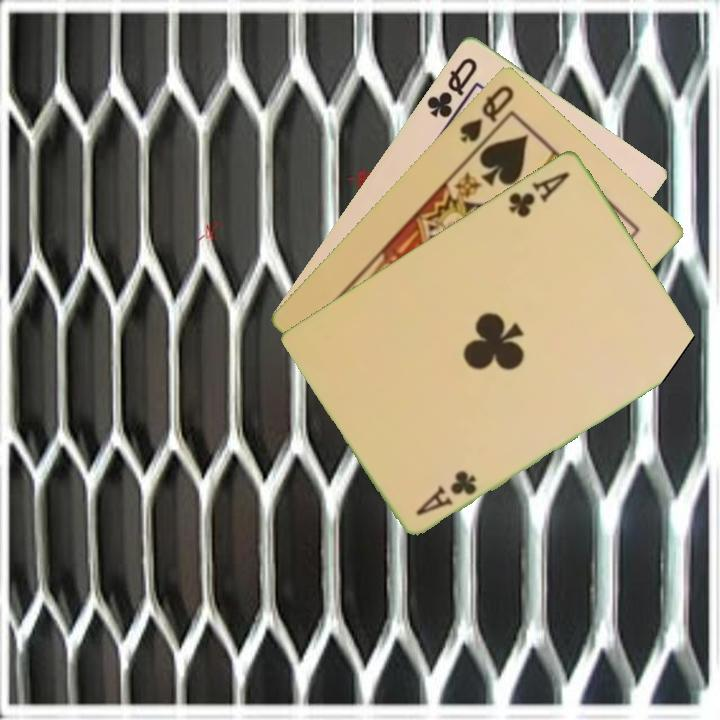Ac: (505, 167, 573, 220), (412, 466, 480, 519)
Qc: (422, 53, 480, 121)
Qs: (456, 81, 517, 145)
